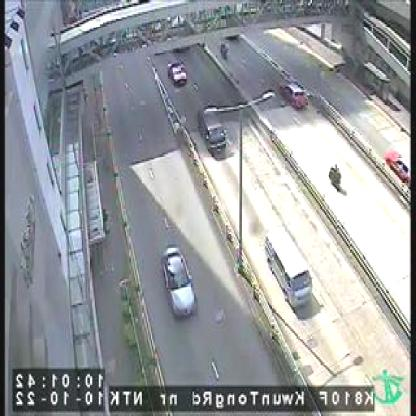Bus: (264, 226, 312, 307)
Car: (162, 244, 200, 317), (199, 104, 228, 156), (383, 146, 408, 194), (278, 76, 307, 107), (169, 61, 188, 84)
